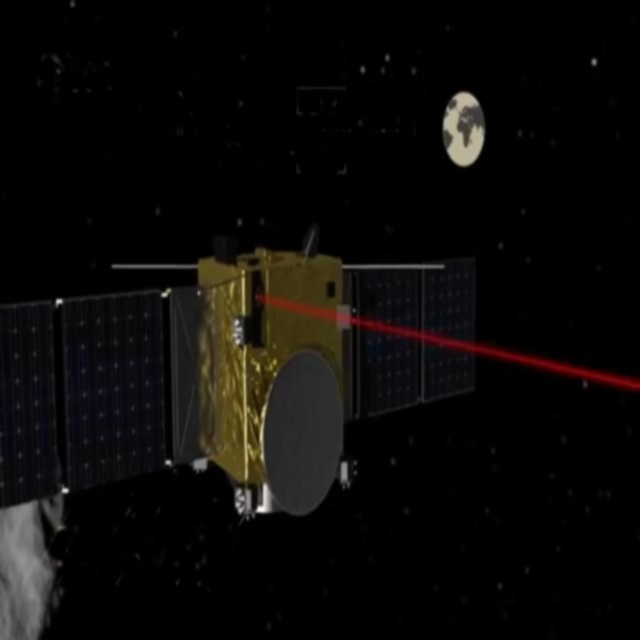medium_debris: (0, 215, 488, 529)
